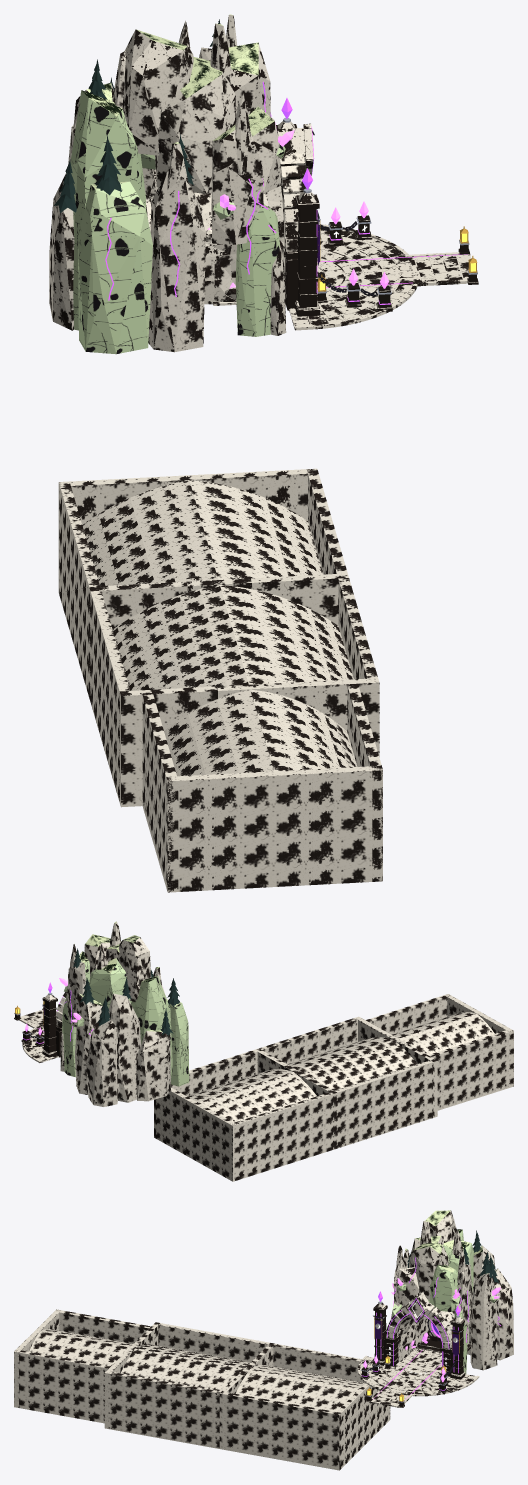
Rendered from ILHA3_17_DUNGEON_ac1e1a.fbx.
The picture shows the model from 3 angles, top to bottom: view 1: azimuth 30°, elevation 25°; view 2: azimuth 150°, elevation 25°; view 3: azimuth 270°, elevation 25°; orthographic projection. The views are drawn at different scales.
Visible parts, largest first — view 1: SG_Dun_Rooms_Shell__Stone_SG_Castle, SG_Dun_Rooms_Vault__Stone_SGDunVault, SG_Dun_Cave_Body__Stone_SG_Obsidian, SG_Dun_Cave_Body__Cliff_Rock_SGDunBasalt, SG_Dun_Approach_Floor__Stone_SG_MarbleBlack, SG_Dun_Cave_Interior__Stone_SG_Obsidian, SG_Dun_Cave_Body__Grass_SG, SG_Dun_Approach_Floor__Stone_SG_Obsidian, SG_Dun_Cave_Mouth__Stone_SG_Obsidian, SG_Dun_Cave_Pines__Leaf_SG_Pine, SG_Dun_Cave_Pillars__Stone_SGDunVault, SG_Dun_Cave_Mouth__Stone_SG_Violet (+1 smaller); view 2: SG_Dun_Rooms_Shell__Stone_SG_Castle, SG_Dun_Cave_Body__Stone_SG_Obsidian, SG_Dun_Rooms_Vault__Stone_SGDunVault, SG_Dun_Cave_Body__Cliff_Rock_SGDunBasalt, SG_Dun_Cave_Pines__Leaf_SG_Pine, SG_Dun_Approach_Floor__Stone_SG_MarbleBlack, SG_Dun_Cave_Body__Grass_SG, SG_Dun_Cave_Pillars__Stone_SGDunVault, SG_Dun_Approach_Floor__Stone_SG_Obsidian, SG_Dun_Cave_Pillars__Stone_SG_Obsidian; view 3: SG_Dun_Rooms_Shell__Stone_SG_Castle, SG_Dun_Rooms_Vault__Stone_SGDunVault, SG_Dun_Cave_Body__Stone_SG_Obsidian, SG_Dun_Approach_Floor__Stone_SG_MarbleBlack, SG_Dun_Cave_Body__Cliff_Rock_SGDunBasalt, SG_Dun_Approach_Floor__Stone_SG_Obsidian, SG_Dun_Cave_Interior__Stone_SG_Obsidian, SG_Dun_Cave_Mouth__Stone_SG_Violet, SG_Dun_Cave_Mouth__Stone_SG_Obsidian, SG_Dun_Cave_Body__Grass_SG, SG_Dun_Cave_Pillars__Stone_SGDunVault, SG_Dun_Cave_Interior__Stone_SG_MarbleBlack (+3 smaller).
Part boxes in pixels (x1,y1,x2,y2): SG_Dun_Rooms_Shell__Stone_SG_Castle: (58,468,382,892); SG_Dun_Rooms_Vault__Stone_SGDunVault: (82,480,357,776); SG_Dun_Cave_Body__Stone_SG_Obsidian: (49,15,286,352); SG_Dun_Cave_Body__Cliff_Rock_SGDunBasalt: (70,90,285,354); SG_Dun_Approach_Floor__Stone_SG_MarbleBlack: (290,228,470,325); SG_Dun_Cave_Interior__Stone_SG_Obsidian: (148,185,285,305); SG_Dun_Cave_Body__Grass_SG: (66,14,274,189); SG_Dun_Approach_Floor__Stone_SG_Obsidian: (289,224,471,330); SG_Dun_Cave_Mouth__Stone_SG_Obsidian: (277,128,305,310); SG_Dun_Cave_Pines__Leaf_SG_Pine: (54,19,220,212); SG_Dun_Cave_Pillars__Stone_SGDunVault: (298,209,317,307); SG_Dun_Cave_Mouth__Stone_SG_Violet: (280,123,313,307); SG_Dun_Rooms_Shell__Stone_SG_Castle: (154,994,513,1181); SG_Dun_Cave_Body__Stone_SG_Obsidian: (60,921,170,1106); SG_Dun_Rooms_Vault__Stone_SGDunVault: (187,1012,494,1122); SG_Dun_Cave_Body__Cliff_Rock_SGDunBasalt: (62,959,189,1086); SG_Dun_Cave_Pines__Leaf_SG_Pine: (73,948,179,1035); SG_Dun_Approach_Floor__Stone_SG_MarbleBlack: (20,1009,58,1061); SG_Dun_Cave_Body__Grass_SG: (74,921,181,1032); SG_Dun_Cave_Pillars__Stone_SGDunVault: (44,1001,56,1052); SG_Dun_Approach_Floor__Stone_SG_Obsidian: (19,1012,58,1062); SG_Dun_Cave_Pillars__Stone_SG_Obsidian: (14,994,57,1057); SG_Dun_Rooms_Shell__Stone_SG_Castle: (14,1309,390,1470); SG_Dun_Rooms_Vault__Stone_SGDunVault: (29,1329,365,1411); SG_Dun_Cave_Body__Stone_SG_Obsidian: (393,1211,513,1370); SG_Dun_Approach_Floor__Stone_SG_MarbleBlack: (360,1356,476,1406); SG_Dun_Cave_Body__Cliff_Rock_SGDunBasalt: (391,1230,497,1373); SG_Dun_Approach_Floor__Stone_SG_Obsidian: (357,1355,479,1407); SG_Dun_Cave_Interior__Stone_SG_Obsidian: (398,1308,470,1369); SG_Dun_Cave_Mouth__Stone_SG_Violet: (385,1295,452,1376); SG_Dun_Cave_Mouth__Stone_SG_Obsidian: (384,1292,452,1373); SG_Dun_Cave_Body__Grass_SG: (405,1210,497,1274); SG_Dun_Cave_Pillars__Stone_SGDunVault: (374,1310,463,1374); SG_Dun_Cave_Interior__Stone_SG_MarbleBlack: (401,1348,441,1369).
Bounding box in the file's own units: 138 × 101 × 184.
Materials: 17 (4 with a texture image).
